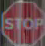Stop: (4, 3, 44, 43)
